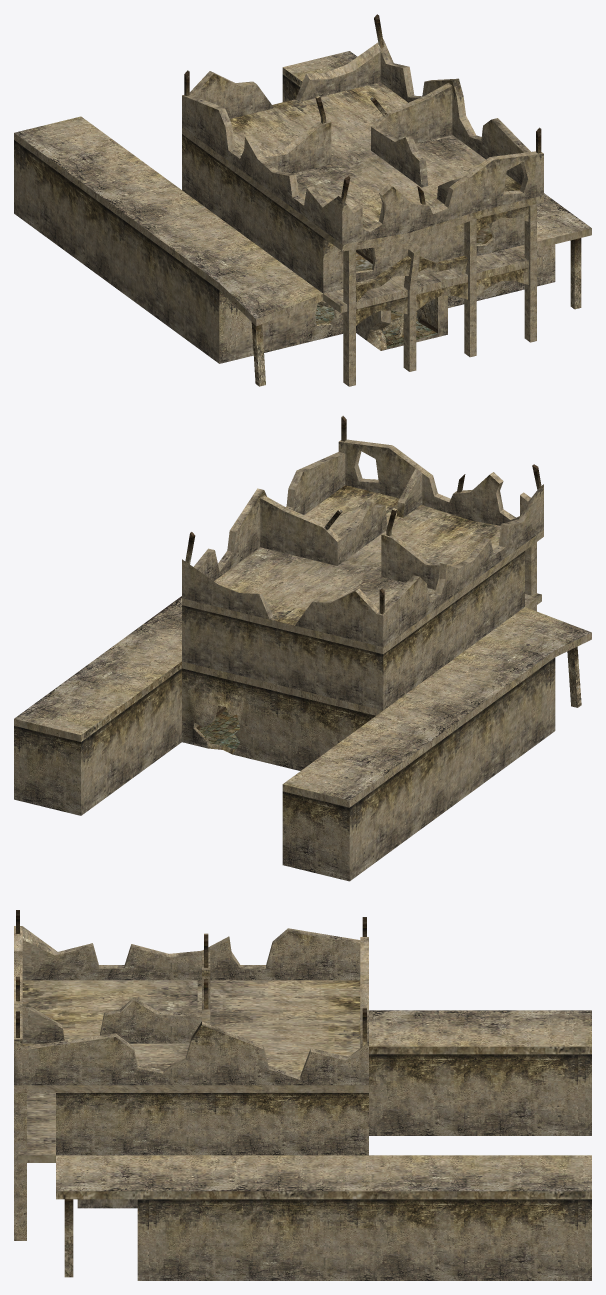
The model's file is MogBld3.glb.
3 renders of one model, top to bottom at view 1: azimuth 30°, elevation 25°; view 2: azimuth 150°, elevation 25°; view 3: azimuth 270°, elevation 25°, orthographic. The views are drawn at different scales.
Parts seen in each view (by area): view 1: _MogBld3; view 2: _MogBld3; view 3: _MogBld3.
Part boxes in pixels (left/top/right/bottom): _MogBld3: left=14, top=14, right=591, bottom=386; _MogBld3: left=14, top=415, right=591, bottom=881; _MogBld3: left=14, top=910, right=591, bottom=1280.
Bounding box in the file's own units: 25 × 15.17 × 33.7.
2 materials, 2 textured.
